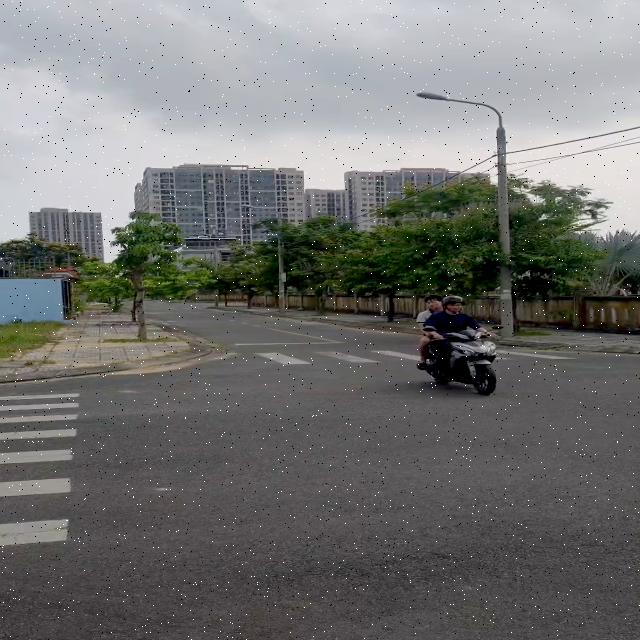helmet: (442, 296, 464, 316)
